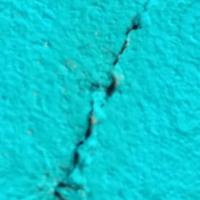crack: (40, 0, 153, 199)
